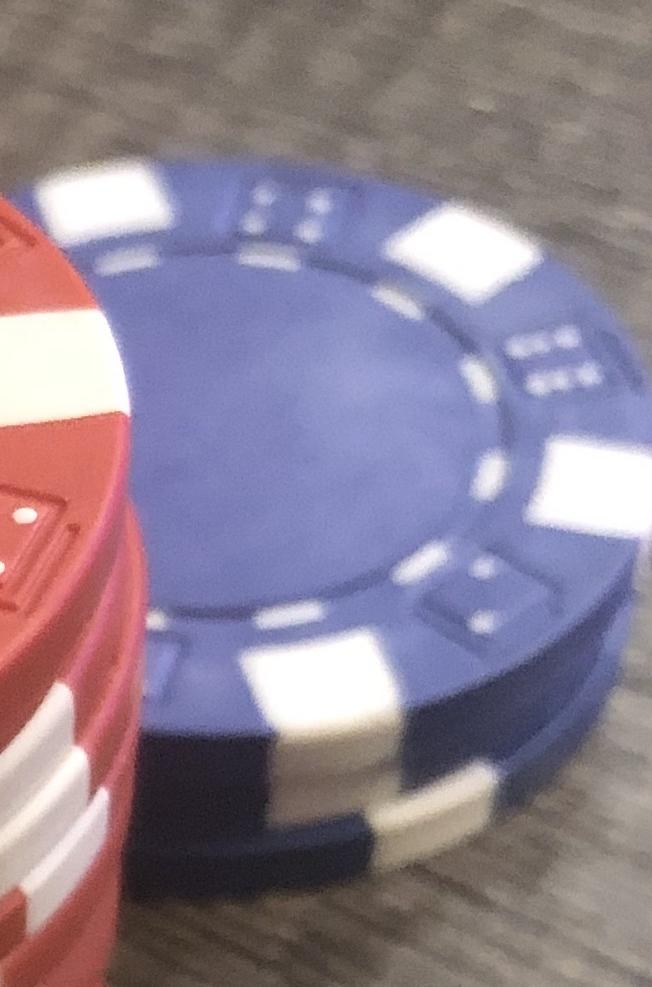Chip: (1, 1, 652, 987)
